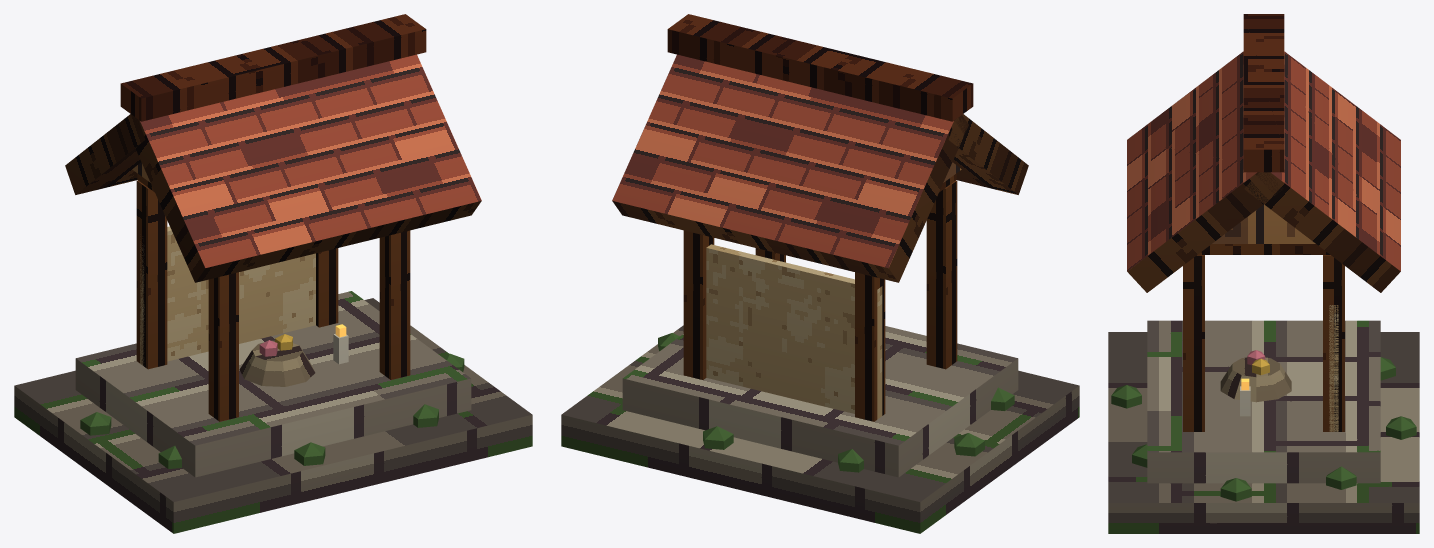
The model's file is shrine.glb.
The picture shows the model from 3 angles, left to right: view 1: azimuth 30°, elevation 25°; view 2: azimuth 150°, elevation 25°; view 3: azimuth 270°, elevation 25°; orthographic projection. The views are drawn at different scales.
Parts seen in each view (by area): view 1: shrine; view 2: shrine; view 3: shrine.
Part boxes in pixels (<box>): shrine: <box>14,14,532,533</box>; shrine: <box>561,14,1079,533</box>; shrine: <box>1108,14,1419,533</box>.
Bounding box in the file's own units: 2.6 × 2.6 × 2.
6 materials, 4 textured.
